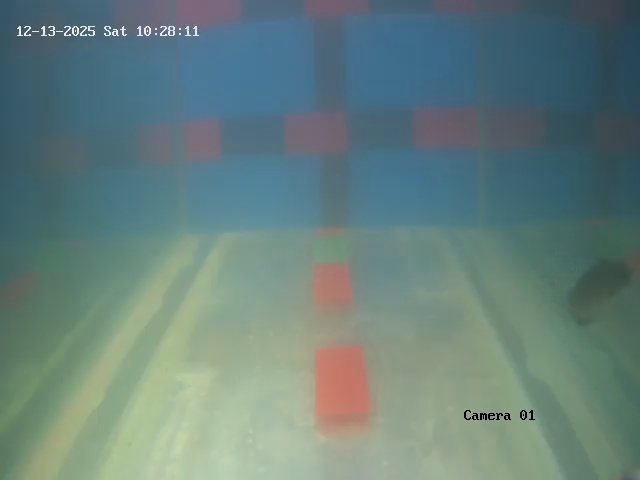fish: (559, 243, 637, 329)
